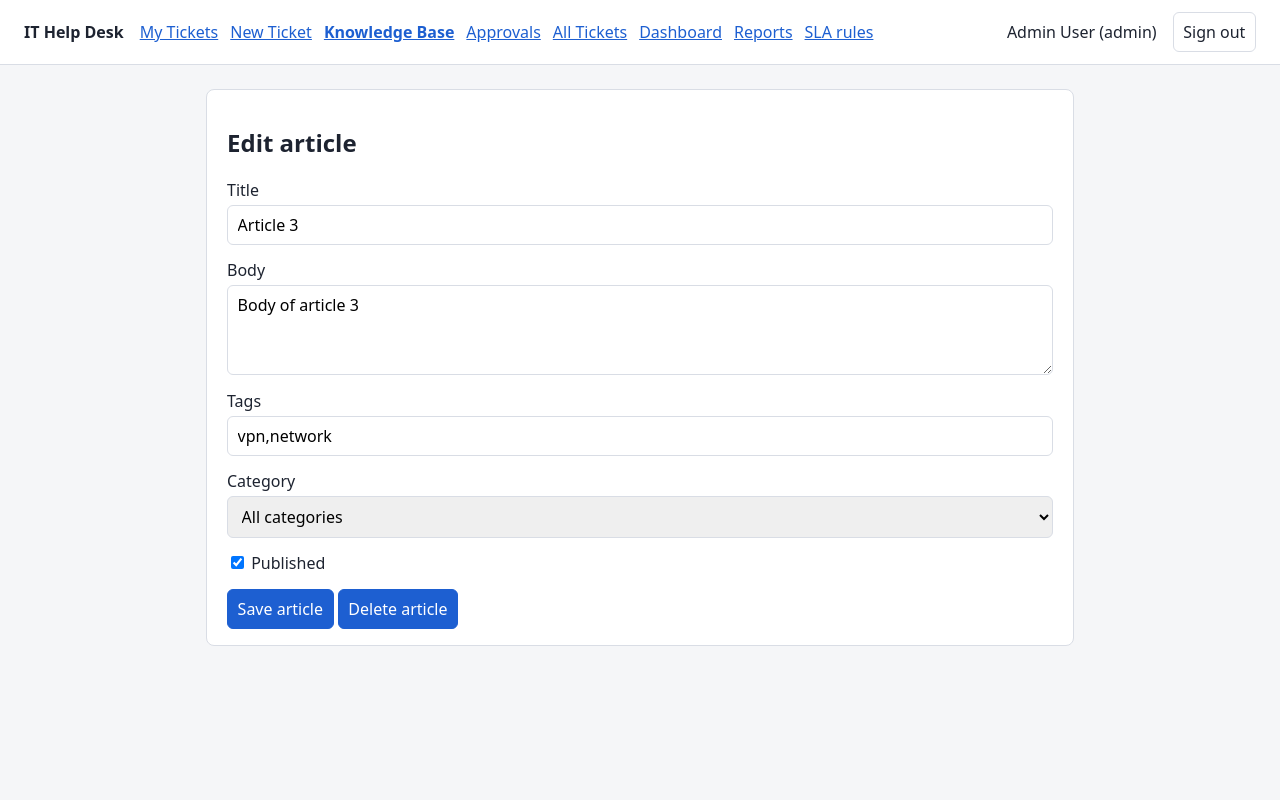
it: knowledge base › deletes only after an in-page confirmation
Click the button "Delete article".
click(398, 609)  # box left=338, top=589, right=458, bottom=629
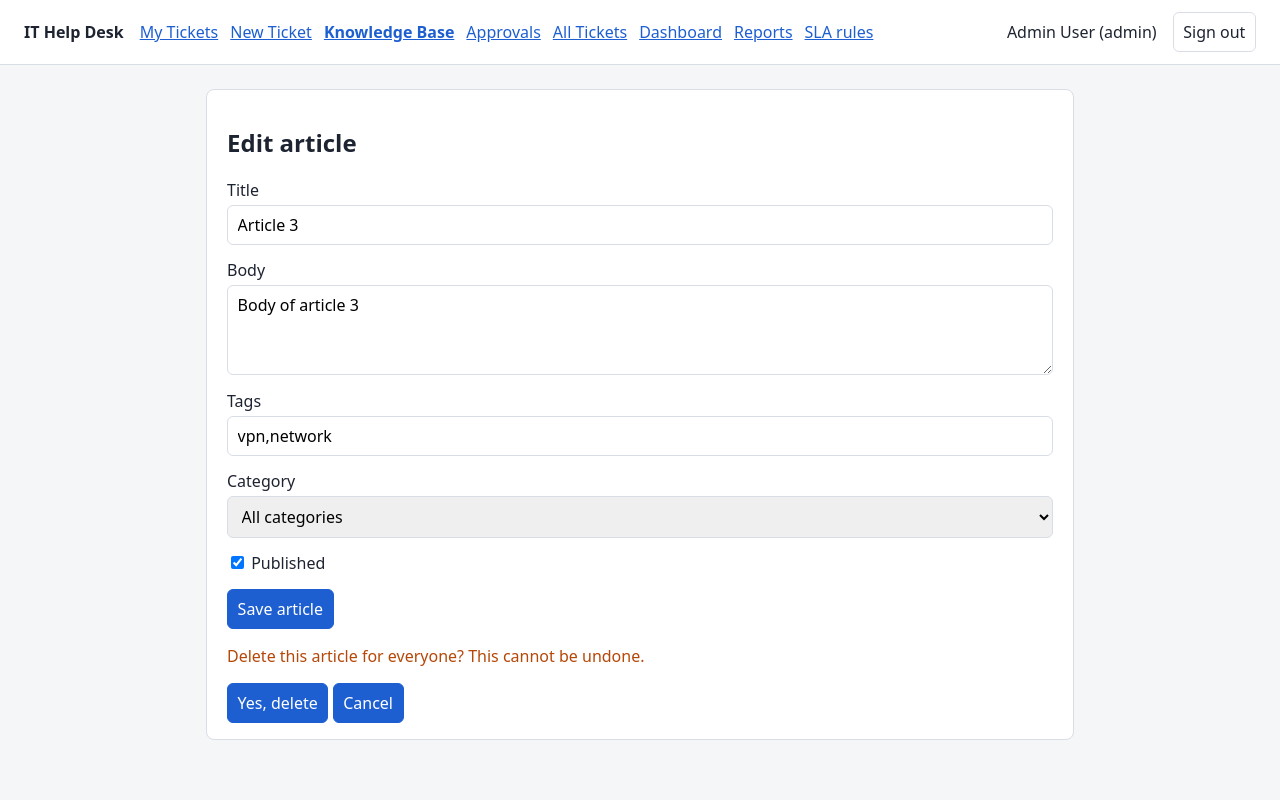
Click the button "Cancel".
click(368, 703)  # box left=333, top=683, right=404, bottom=723
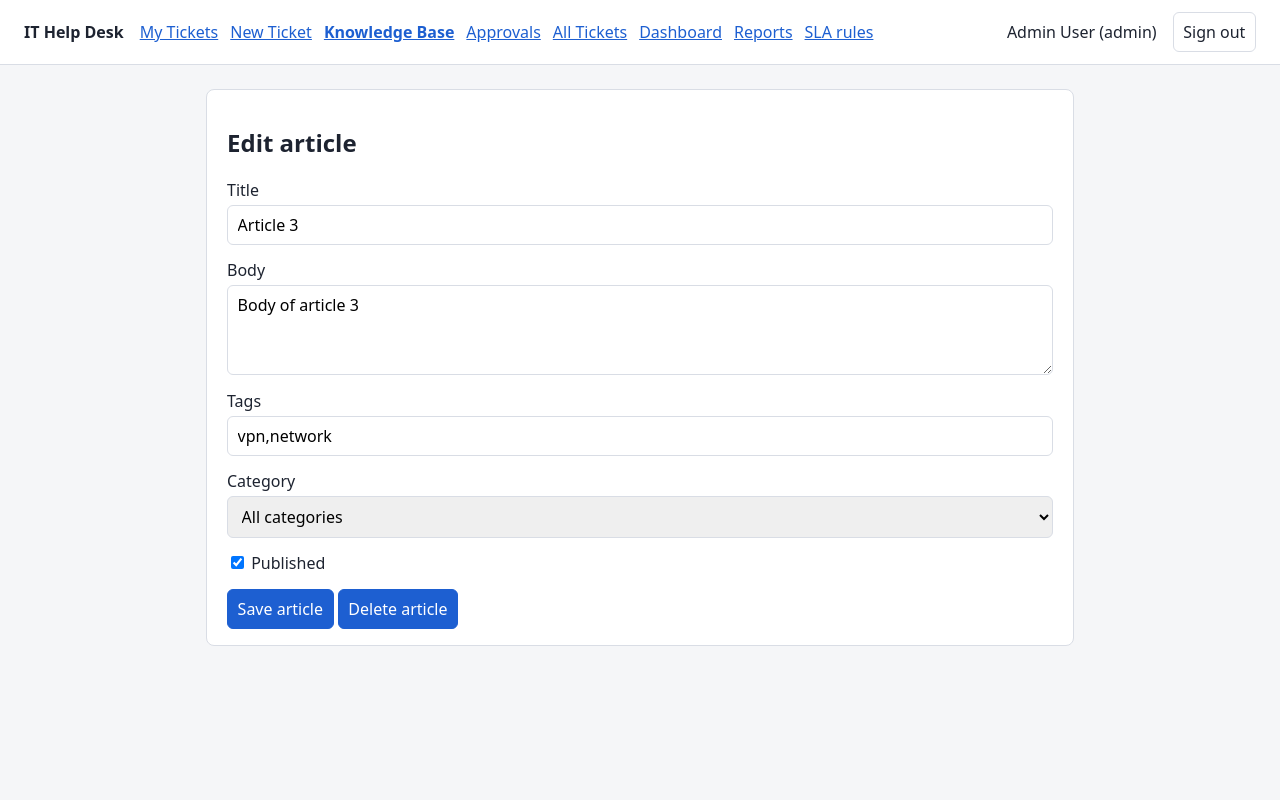
Now the button "Delete article" is shown
Click the button "Delete article".
click(398, 609)  # box left=338, top=589, right=458, bottom=629
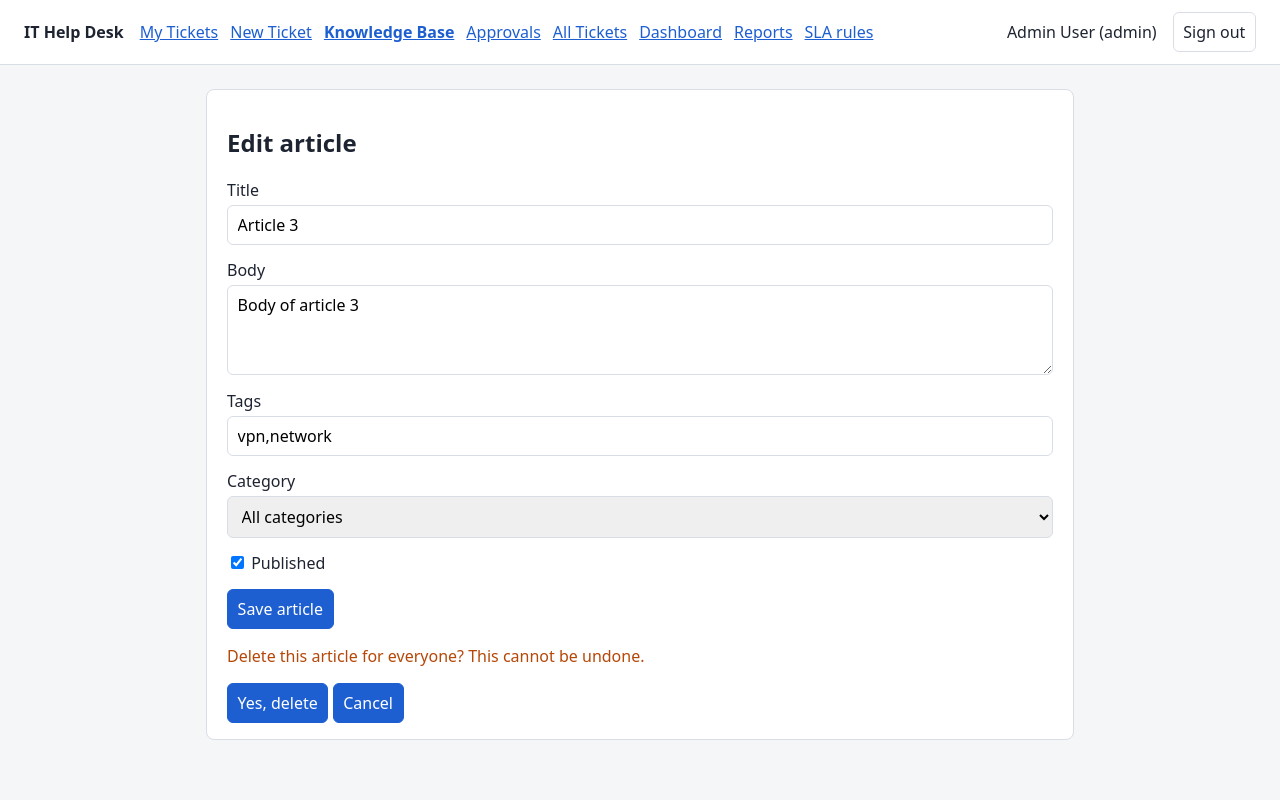
Click the button "Yes, delete".
click(278, 703)  # box left=227, top=683, right=328, bottom=723
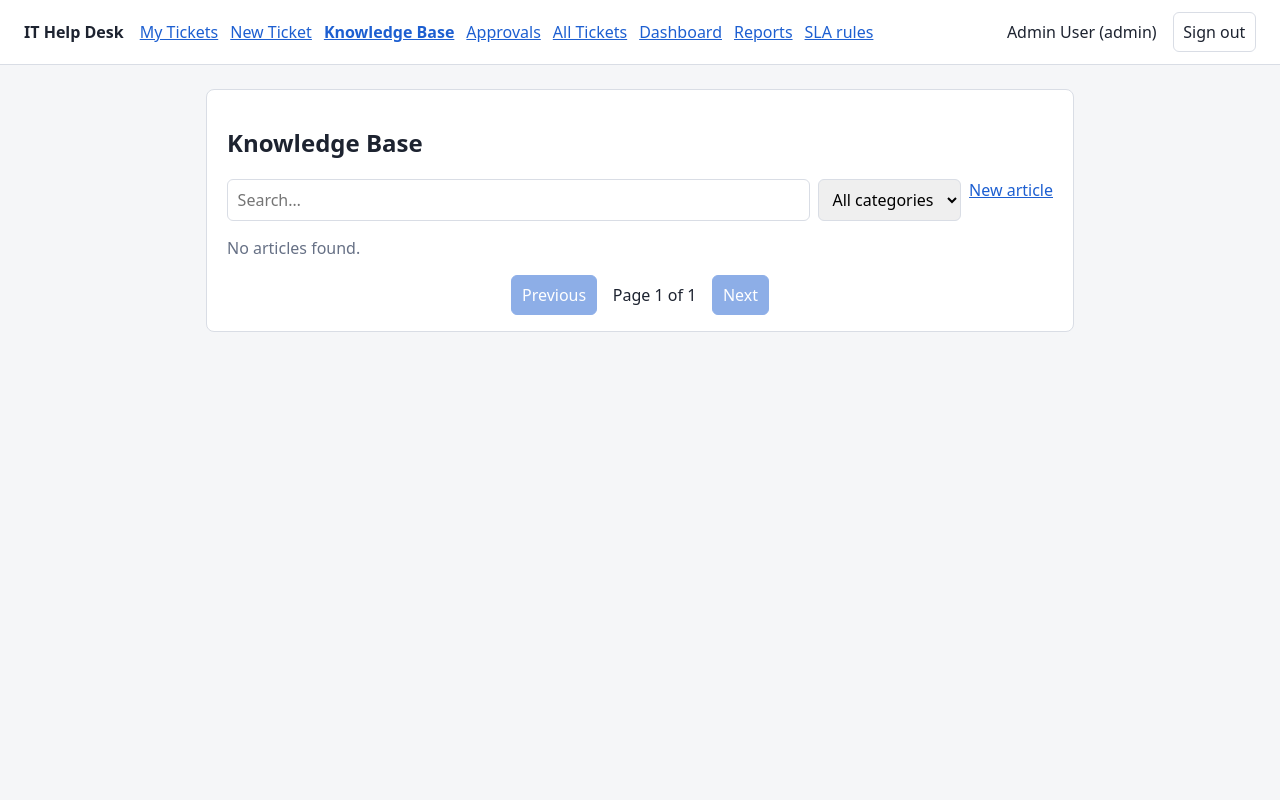
Now the heading "Knowledge Base" is shown, box left=227, top=126, right=423, bottom=159
